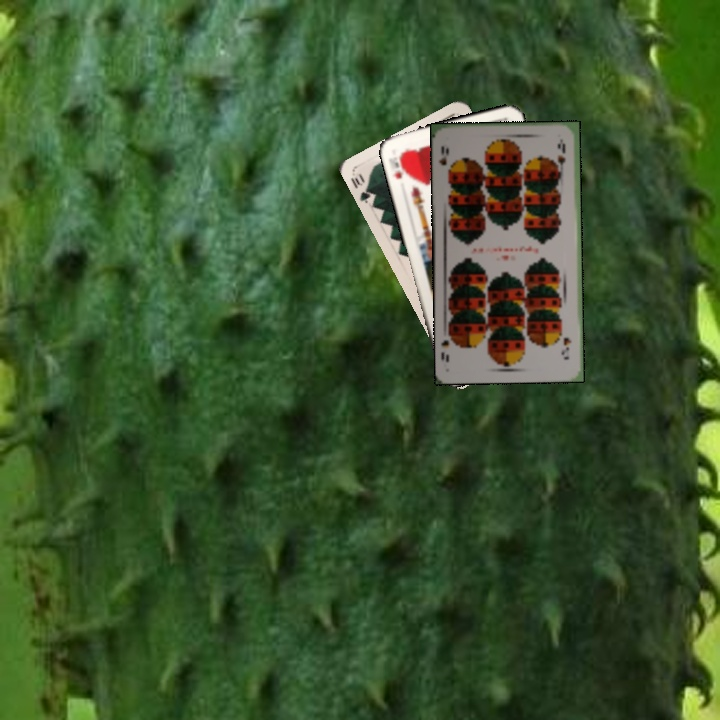G10: (346, 169, 378, 206)
HK: (389, 149, 409, 181)
S9: (435, 142, 454, 179), (559, 333, 574, 362)
